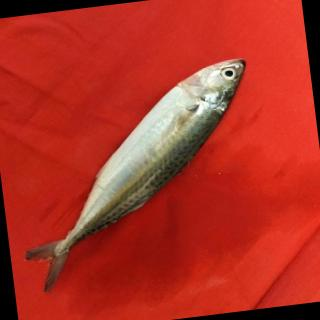Ikan: (3, 42, 278, 302)
